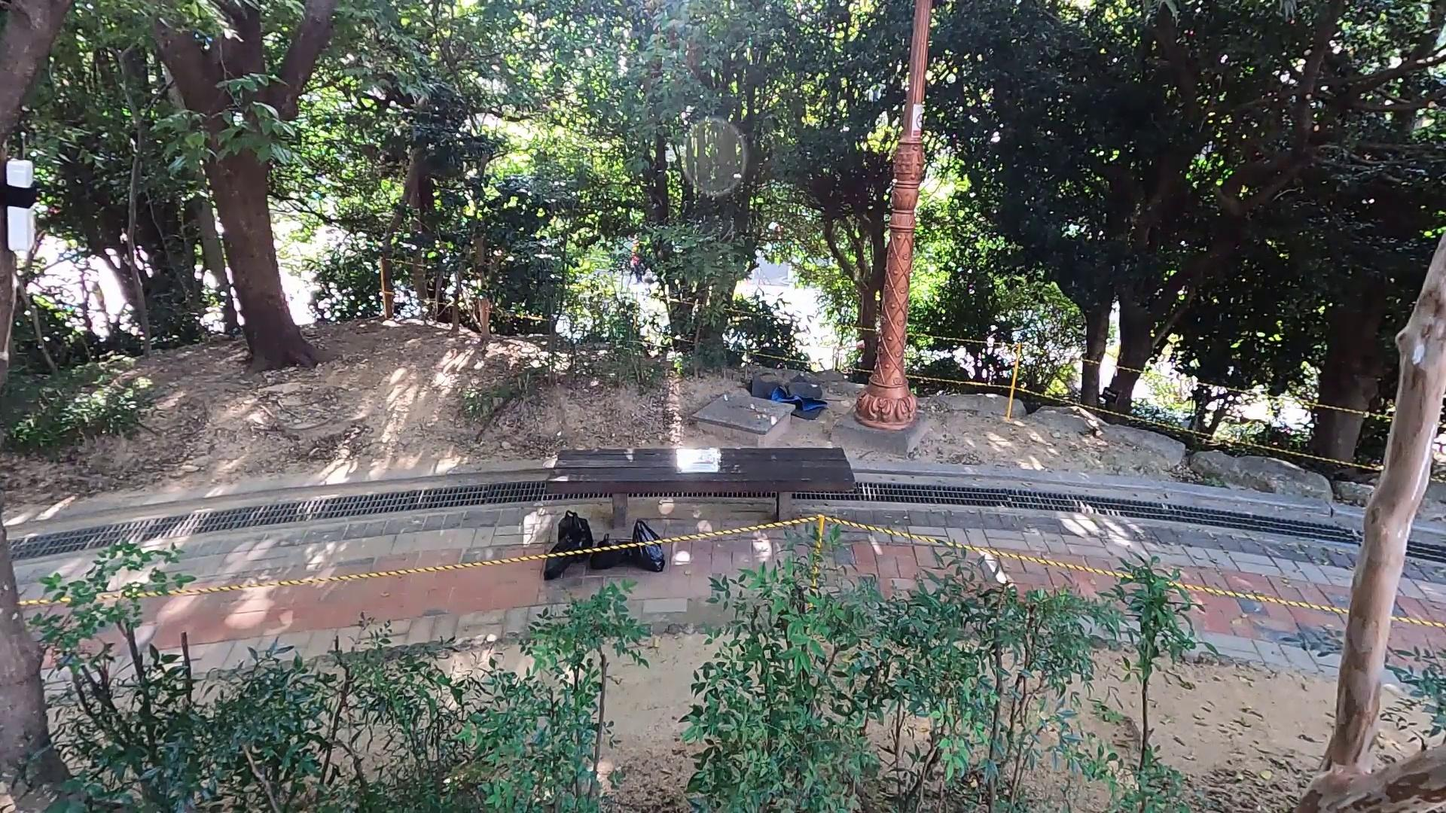trash: (743, 370, 828, 422), (576, 529, 629, 572), (628, 516, 668, 572), (556, 510, 595, 557), (540, 546, 585, 574)
